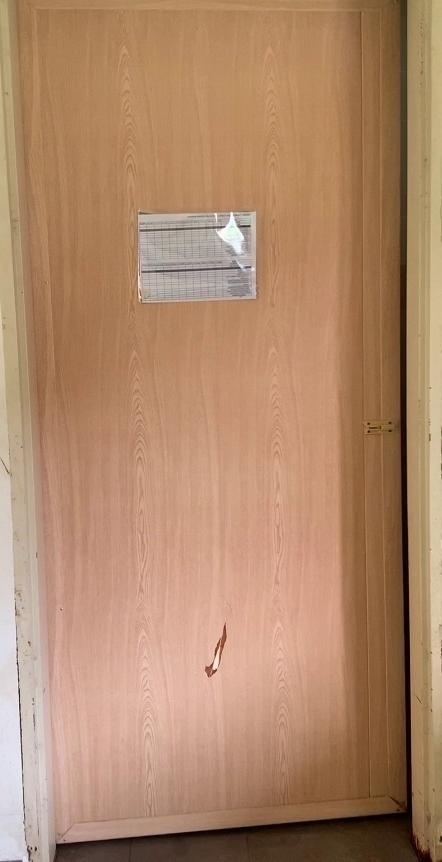door: (0, 0, 414, 862)
